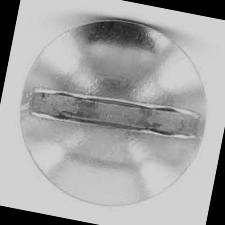slotted: (1, 3, 221, 224)
